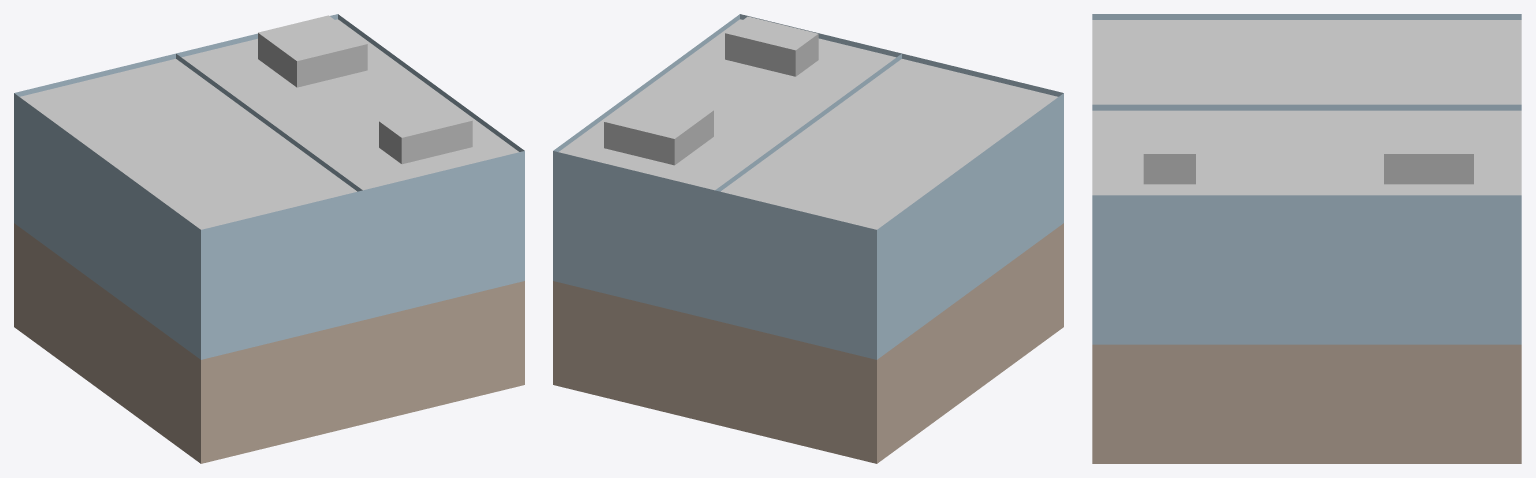
3 views of the same model, side by side, from view 1: azimuth 30°, elevation 25°; view 2: azimuth 150°, elevation 25°; view 3: azimuth 270°, elevation 25° (orthographic). The views are drawn at different scales.
Visible parts, largest first — view 1: Object_2, Object_6, Object_5, Object_8, Object_7, Object_1, Object_4, Object_3; view 2: Object_2, Object_6, Object_5, Object_8, Object_7, Object_1, Object_4, Object_3; view 3: Object_2, Object_5, Object_6, Object_8, Object_7, Object_4, Object_3, Object_1.
Part boxes in pixels (bbox=[...]): Object_2: bbox=[14, 14, 524, 359]; Object_6: bbox=[14, 223, 524, 463]; Object_5: bbox=[20, 19, 519, 229]; Object_8: bbox=[258, 15, 367, 87]; Object_7: bbox=[379, 104, 472, 164]; Object_1: bbox=[14, 14, 524, 233]; Object_4: bbox=[176, 54, 362, 191]; Object_3: bbox=[176, 54, 360, 191]; Object_2: bbox=[553, 14, 1063, 359]; Object_6: bbox=[553, 223, 1063, 463]; Object_5: bbox=[558, 19, 1057, 229]; Object_8: bbox=[604, 93, 713, 165]; Object_7: bbox=[725, 16, 818, 76]; Object_1: bbox=[553, 14, 1063, 232]; Object_4: bbox=[716, 54, 901, 191]; Object_3: bbox=[715, 54, 901, 191]; Object_2: bbox=[1092, 14, 1521, 344]; Object_5: bbox=[1092, 20, 1521, 195]; Object_6: bbox=[1092, 344, 1521, 463]; Object_8: bbox=[1384, 114, 1473, 184]; Object_7: bbox=[1143, 114, 1195, 184]; Object_4: bbox=[1092, 104, 1521, 110]; Object_3: bbox=[1092, 104, 1521, 110]; Object_1: bbox=[1092, 14, 1521, 201].
Size of the model in its own units: 1283 by 1283 by 966.
